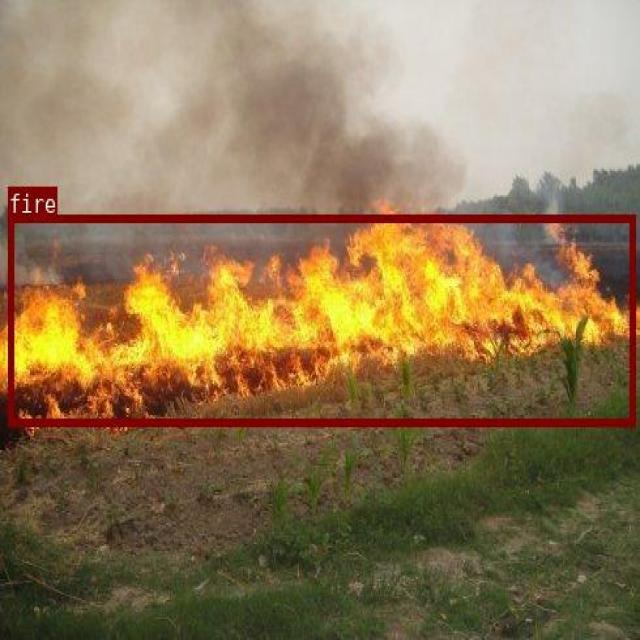fire: (8, 214, 634, 425)
